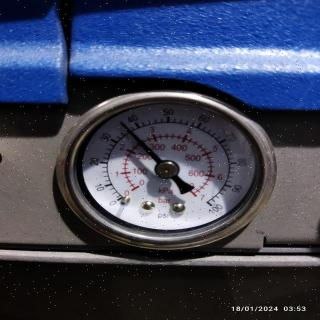gauge: (41, 86, 302, 257), (193, 188, 223, 218), (110, 186, 138, 217), (154, 158, 179, 180), (117, 118, 127, 128)
